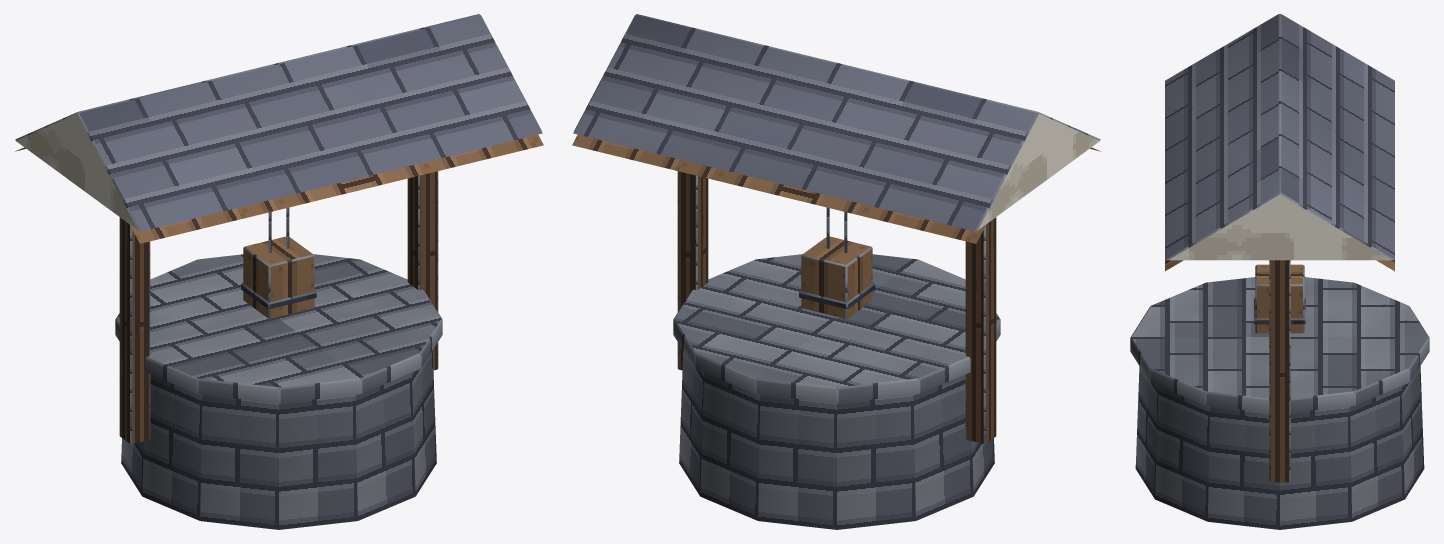
The model's file is well_1.glb.
3 renders of one model, left to right at view 1: azimuth 30°, elevation 25°; view 2: azimuth 150°, elevation 25°; view 3: azimuth 270°, elevation 25°, orthographic. The views are drawn at different scales.
Visible parts, largest first — view 1: well_2; view 2: well_2; view 3: well_2.
Boxes of the visible parts, left/top/right/bottom form: well_2: left=15, top=14, right=543, bottom=529; well_2: left=572, top=14, right=1100, bottom=529; well_2: left=1130, top=14, right=1429, bottom=529.
Bounding box in the file's own units: 2.78 × 2.63 × 1.95.
7 materials, 7 textured.
